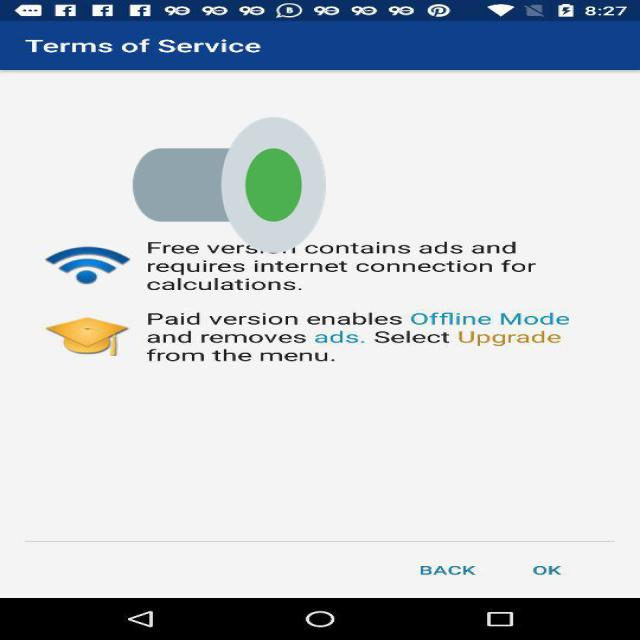social proof: (133, 59, 326, 311)
